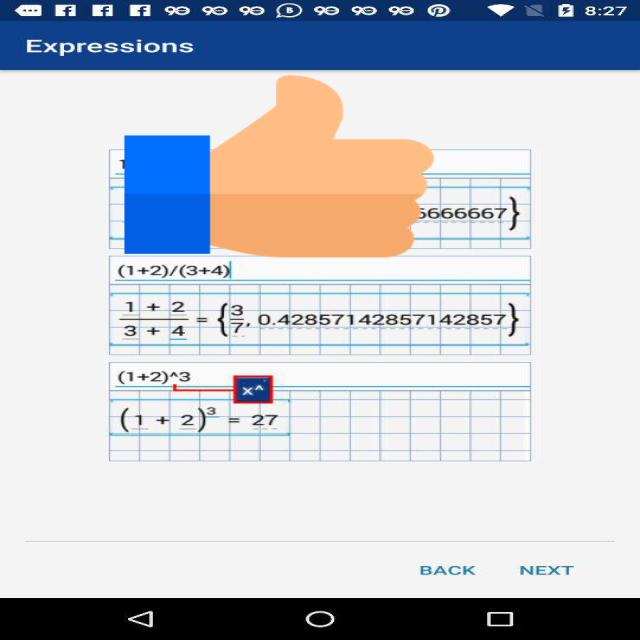privacy zuckering: (124, 71, 434, 262)
